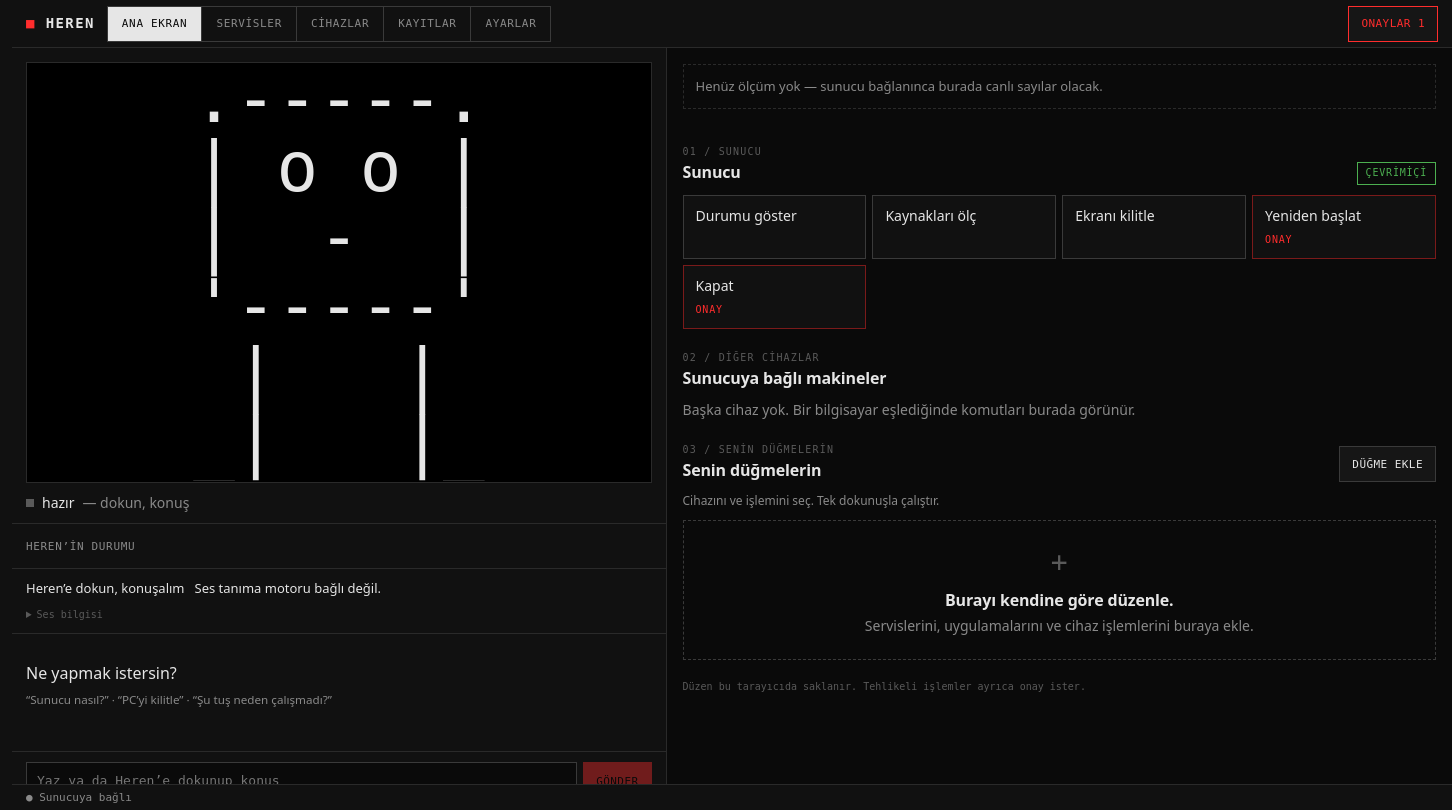
Test: server vitals + services view › has a Servisler tab that runs list_services on the server
Click the button "Servisler" at [250, 24], box x1=202 y1=6 x2=297 y2=40
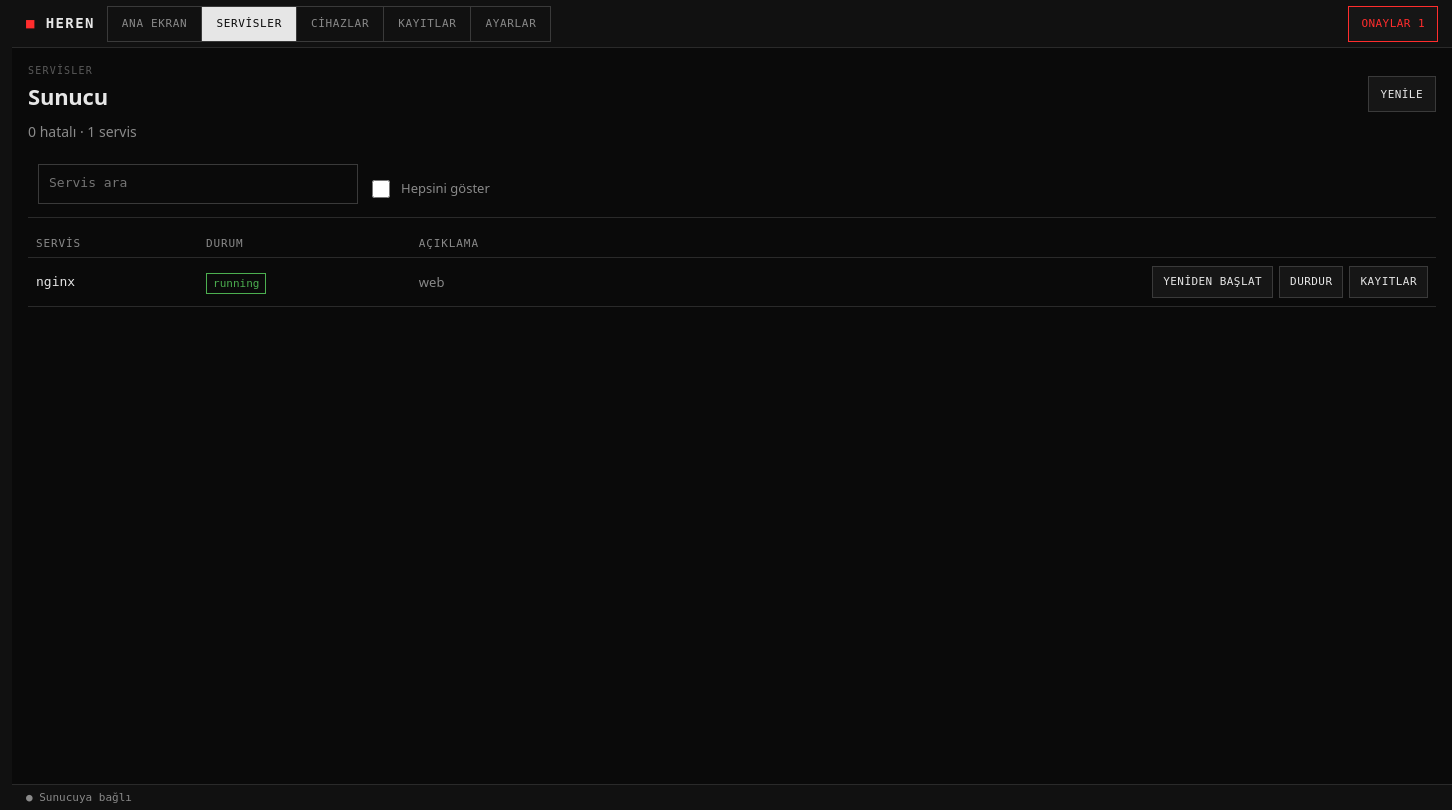
Check: the text "nginx" is shown, box x1=28 y1=257 x2=198 y2=307
